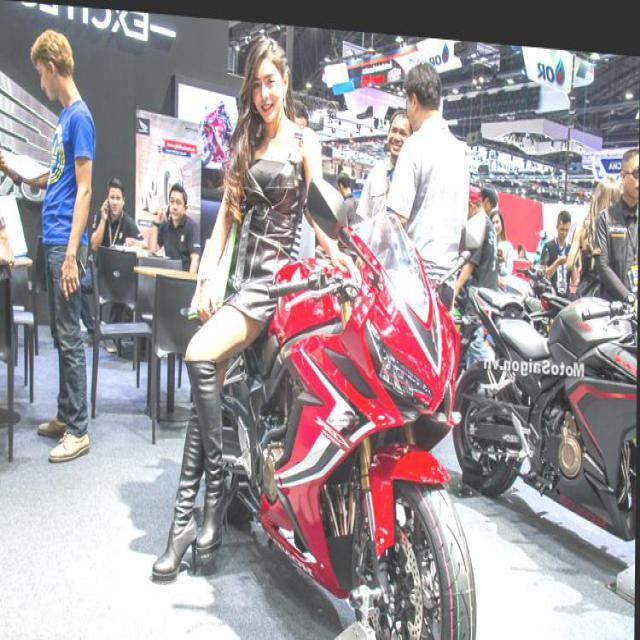CBR650R: (206, 187, 481, 639)
